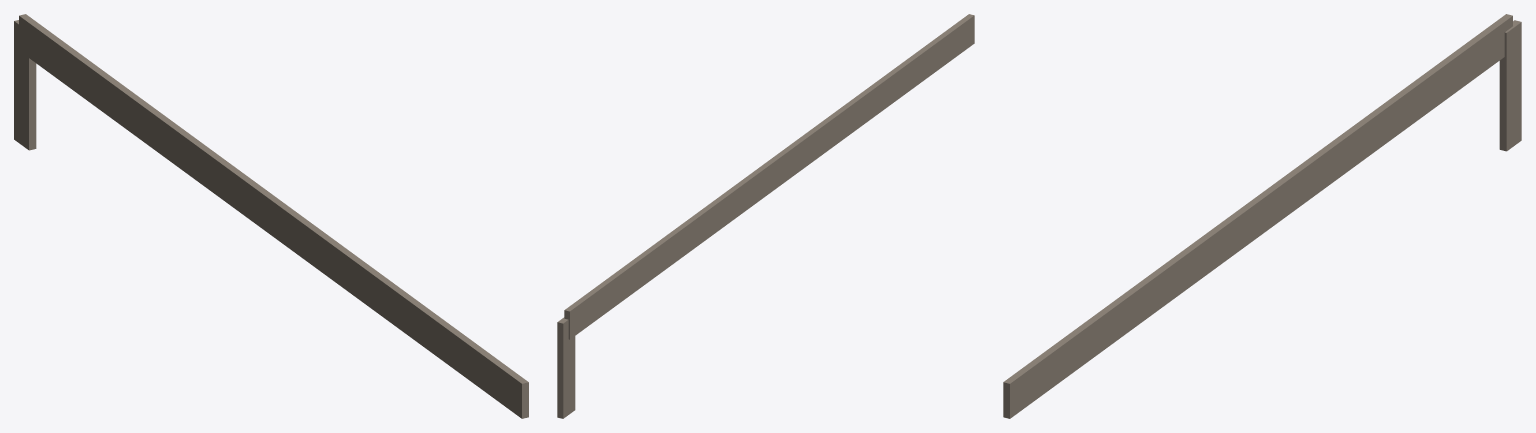
File: Props_Traffic Control Barrier Fence.fbx
3 renders of one model, left to right at view 1: azimuth 30°, elevation 25°; view 2: azimuth 150°, elevation 25°; view 3: azimuth 330°, elevation 25°, orthographic. The views are drawn at different scales.
Parts seen in each view (by area): view 1: Props_TrafficFence; view 2: Props_TrafficFence; view 3: Props_TrafficFence.
Boxes of the visible parts, x1,y1,x2,y2 form: Props_TrafficFence: (14,14,528,418); Props_TrafficFence: (557,14,974,418); Props_TrafficFence: (1003,14,1521,418).
Size of the model in its own units: 0.1064 by 1.47 by 10.53.
1 material, 1 textured.
